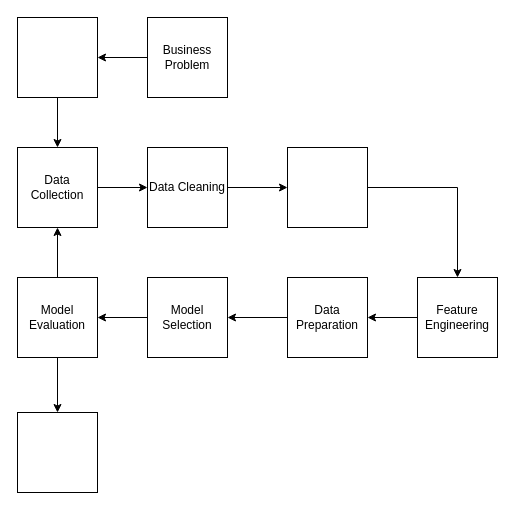
Image size: 515x510. Some labels were removed from this diagram. Each missing label, with the box of its shape:
Exploratory Data Analysis: (286, 146, 368, 228)
Model Deployment: (16, 412, 98, 492)
Solution Planning: (16, 16, 98, 98)
